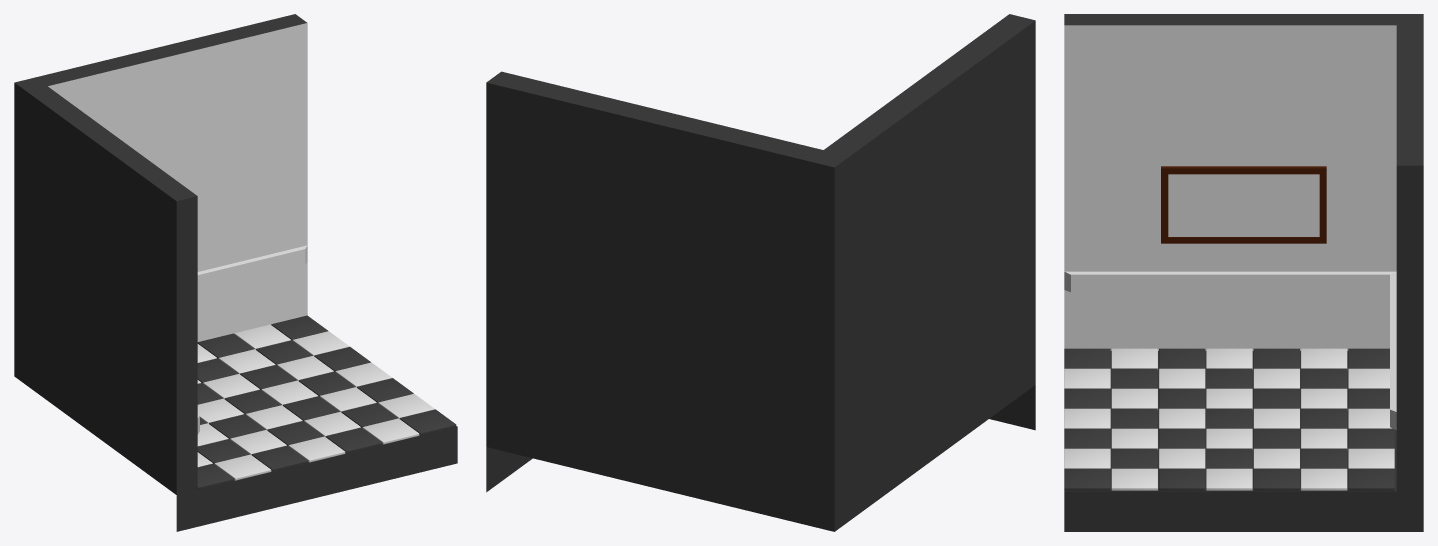
Rendered from interrogation room_000.fbx.
3 views of the same model, side by side, from view 1: azimuth 30°, elevation 25°; view 2: azimuth 150°, elevation 25°; view 3: azimuth 270°, elevation 25° (orthographic). The views are drawn at different scales.
Parts seen in each view (by area): view 1: Wall, Floor, FloorBlack01, FloorWhite01, FloorWhite02, FloorBlack02; view 2: Wall, Floor; view 3: Wall, Floor, FloorBlack01, FloorWhite02, FloorWhite01, Mirror Glass, FloorBlack02, Frame.
Boxes of the visible parts, box(x1,y1,x2,y2) form: Wall: box(14, 14, 307, 494); Floor: box(176, 426, 457, 531); FloorBlack01: box(197, 315, 456, 489); FloorWhite01: box(197, 324, 419, 480); FloorWhite02: box(197, 331, 434, 467); FloorBlack02: box(197, 340, 397, 463); Wall: box(486, 14, 1035, 531); Floor: box(486, 385, 1035, 492); Wall: box(1064, 14, 1423, 491); Floor: box(1064, 351, 1423, 531); FloorBlack01: box(1064, 348, 1394, 490); FloorWhite02: box(1111, 348, 1347, 490); FloorWhite01: box(1064, 368, 1394, 468); Mirror Glass: box(1168, 174, 1319, 236); FloorBlack02: box(1111, 368, 1346, 468); Frame: box(1161, 166, 1326, 243).
Size of the model in its own units: 1000 by 1125 by 1000.
